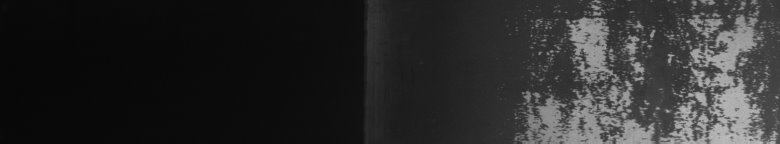kb: (515, 4, 776, 136)
